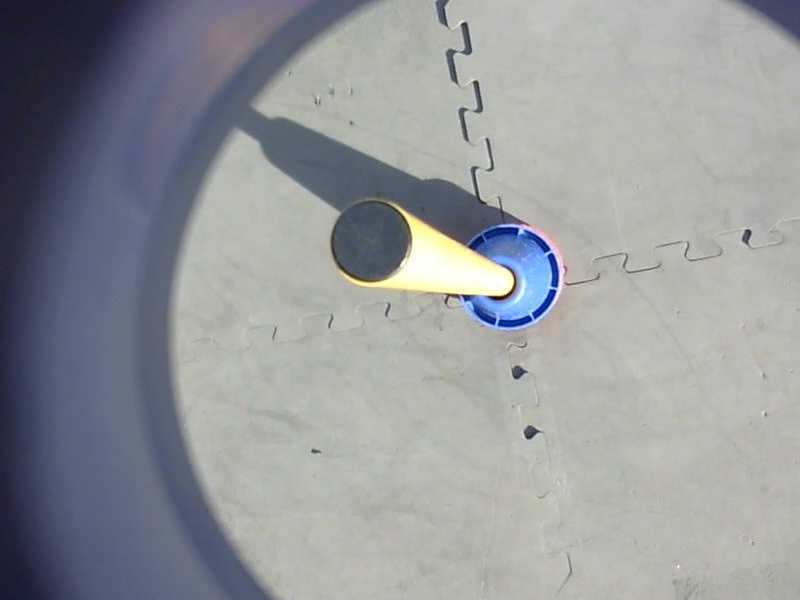tip: (324, 193, 417, 290)
